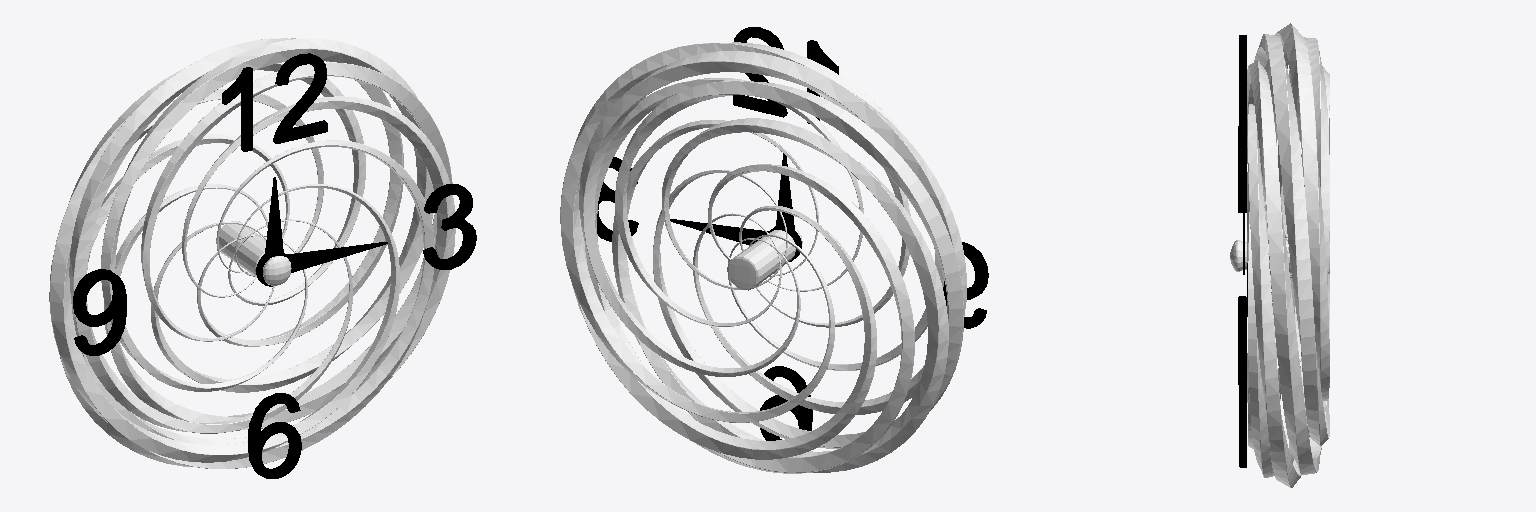
Rendered from clock02_BLENDER.obj.
The picture shows the model from 3 angles: view 1: azimuth 30°, elevation 25°; view 2: azimuth 150°, elevation 25°; view 3: azimuth 270°, elevation 25°; orthographic projection.
Visible parts, largest first — view 1: clock02, clock02_digits, clock02_dial, clock02_bighand, clock02_littlehand; view 2: clock02, clock02_digits, clock02_dial, clock02_bighand, clock02_littlehand; view 3: clock02, clock02_digits.
Part boxes in pixels (x1,y1,x2,y2): clock02: (49, 38, 455, 468); clock02_digits: (73, 53, 476, 478); clock02_dial: (216, 221, 291, 285); clock02_bighand: (256, 242, 387, 283); clock02_littlehand: (257, 177, 290, 286); clock02: (560, 42, 966, 473); clock02_digits: (597, 27, 988, 440); clock02_dial: (727, 229, 802, 290); clock02_bighand: (670, 219, 799, 261); clock02_littlehand: (774, 153, 801, 258); clock02: (1247, 23, 1329, 487); clock02_digits: (1238, 35, 1246, 467).
Size of the model in its own units: 1.59 by 1.58 by 0.3462.